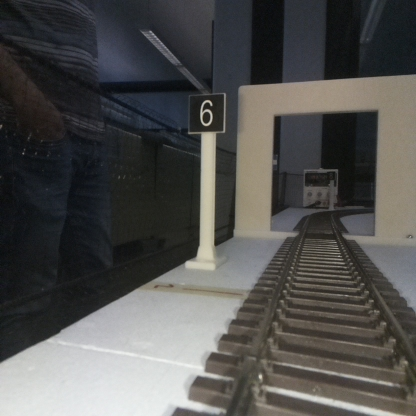black-info-6: (188, 94, 223, 267)
